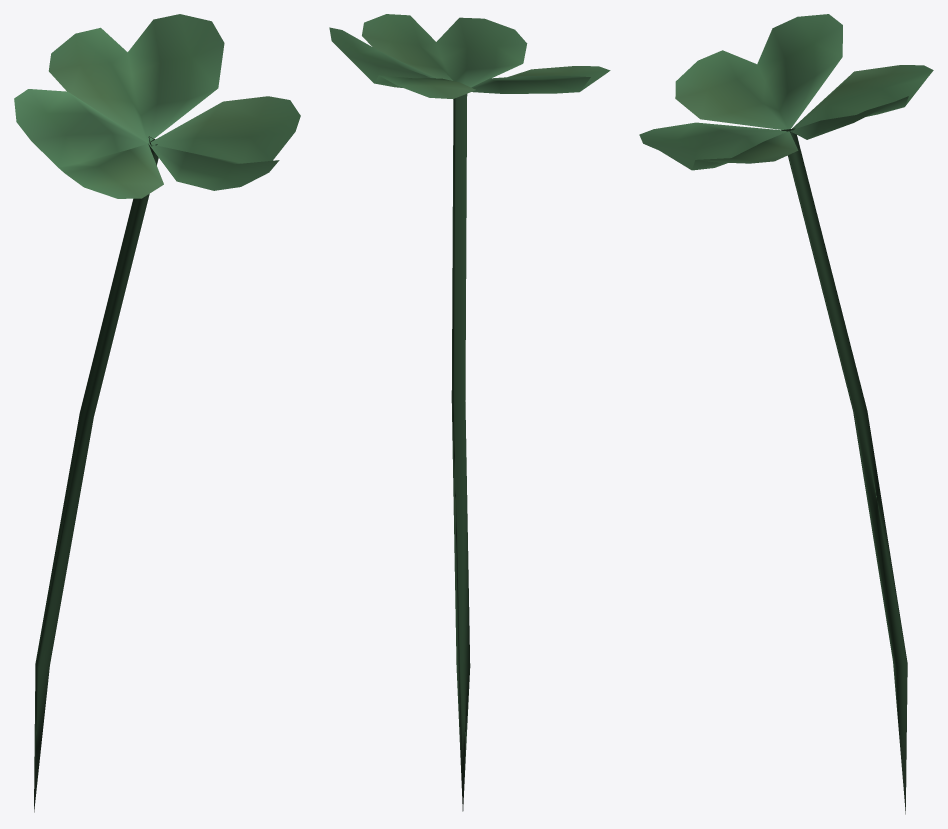
Rendered from plants-leafy-plants-clover_v4.glb.
3 views of the same model, side by side, from view 1: azimuth 30°, elevation 25°; view 2: azimuth 150°, elevation 25°; view 3: azimuth 270°, elevation 25° (orthographic). The views are drawn at different scales.
Visible parts, largest first — view 1: Clover_v4; view 2: Clover_v4; view 3: Clover_v4.
Part boxes in pixels (x1=…): Clover_v4: x1=14, y1=14, x2=300, y2=812; Clover_v4: x1=329, y1=14, x2=610, y2=811; Clover_v4: x1=639, y1=14, x2=933, y2=814.
Bounding box in the file's own units: 0.0511 × 0.15 × 0.0511.
